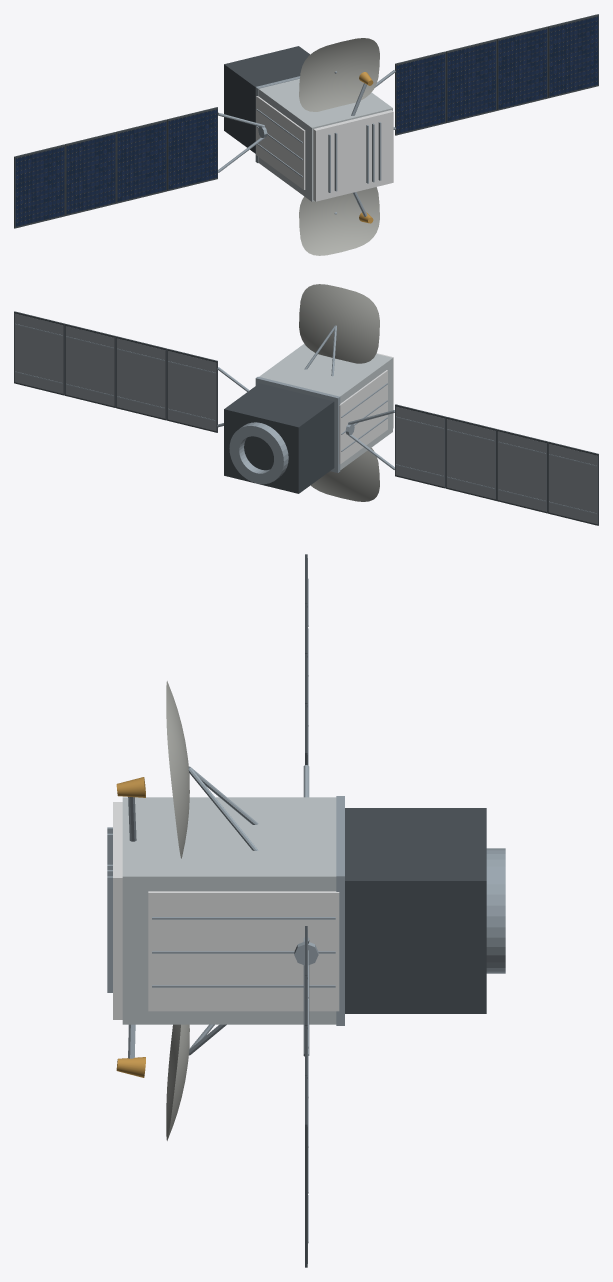
Rendered from ref-geostar-2-39035.glb.
3 views of the same model, one above another, from view 1: azimuth 30°, elevation 25°; view 2: azimuth 150°, elevation 25°; view 3: azimuth 270°, elevation 25° (orthographic). The views are drawn at different scales.
Parts seen in each view (by area): view 1: Solar cell panel (×8), Communications reflector (×2), Earth-facing deck, Service module, Solar panel frame (×8), Payload module, Radiator face; view 2: Rear array substrate (×8), Service module, Communications reflector (×2), Payload module, Solar panel frame (×8), Radiator face, Launch adapter ring, Module interface; view 3: Service module, Payload module, Radiator face, Communications reflector (×2), Launch adapter ring, Earth-facing deck, Module interface.
Part boxes in pixels (bbox=[...]): Solar cell panel (×8): bbox=[15, 16, 598, 226]; Communications reflector (×2): bbox=[299, 38, 379, 255]; Earth-facing deck: bbox=[313, 110, 393, 201]; Service module: bbox=[224, 46, 310, 153]; Solar panel frame (×8): bbox=[14, 14, 598, 228]; Payload module: bbox=[258, 79, 392, 201]; Radiator face: bbox=[256, 96, 305, 189]; Rear array substrate (×8): bbox=[14, 313, 597, 524]; Service module: bbox=[224, 383, 334, 493]; Communications reflector (×2): bbox=[299, 284, 379, 501]; Payload module: bbox=[259, 343, 392, 469]; Solar panel frame (×8): bbox=[14, 311, 598, 525]; Radiator face: bbox=[339, 370, 387, 464]; Launch adapter ring: bbox=[229, 422, 288, 484]; Module interface: bbox=[255, 376, 340, 472]; Service module: bbox=[345, 808, 486, 1013]; Payload module: bbox=[122, 797, 336, 1024]; Radiator face: bbox=[148, 891, 339, 1011]; Communications reflector (×2): bbox=[166, 681, 189, 1140]; Launch adapter ring: bbox=[486, 848, 505, 973]; Earth-facing deck: bbox=[113, 802, 122, 1019]; Module interface: bbox=[336, 796, 344, 1025].
Bounding box in the file's own units: 17.98 × 6.19 × 5.31.
8 materials, 1 textured.
